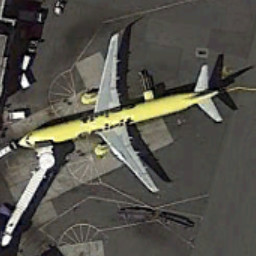Airplane: (13, 27, 229, 201)
